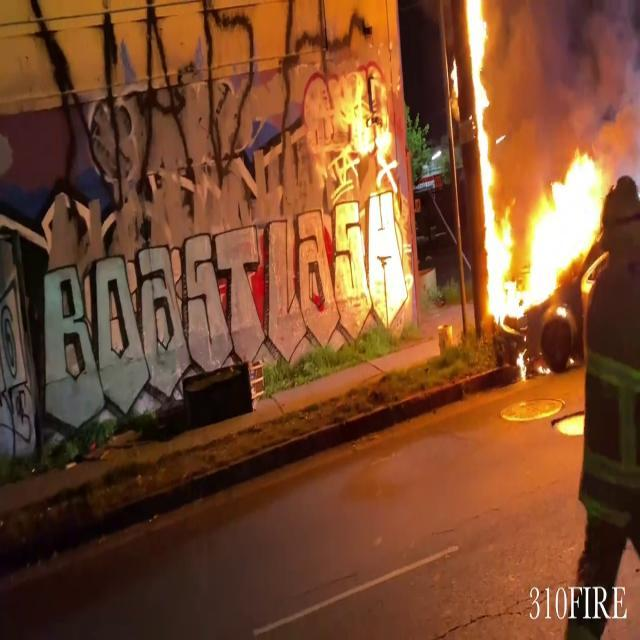Fire: (470, 139, 600, 329), (462, 0, 506, 191)
Smoke: (499, 0, 640, 186)
